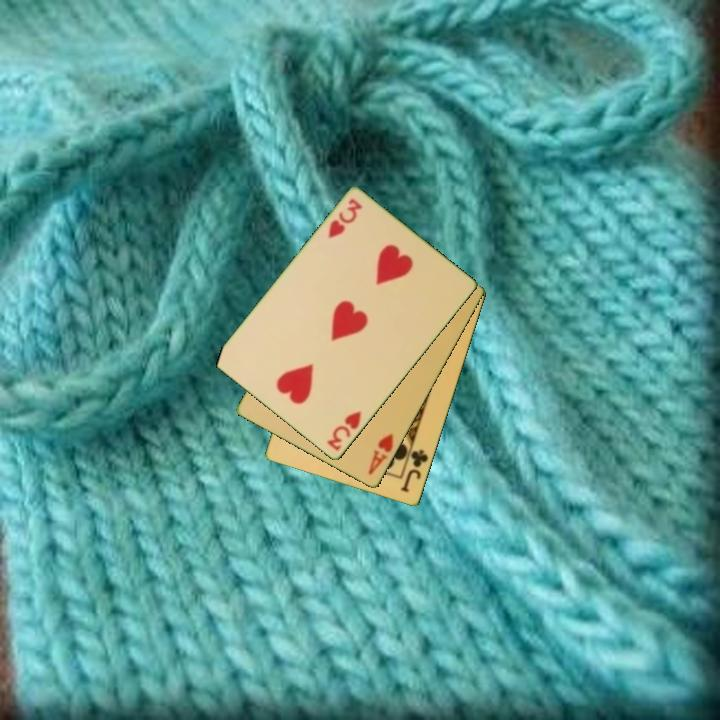3h: (323, 407, 364, 454), (325, 195, 365, 242)
Ah: (365, 430, 396, 478)
Jc: (397, 441, 431, 496)
